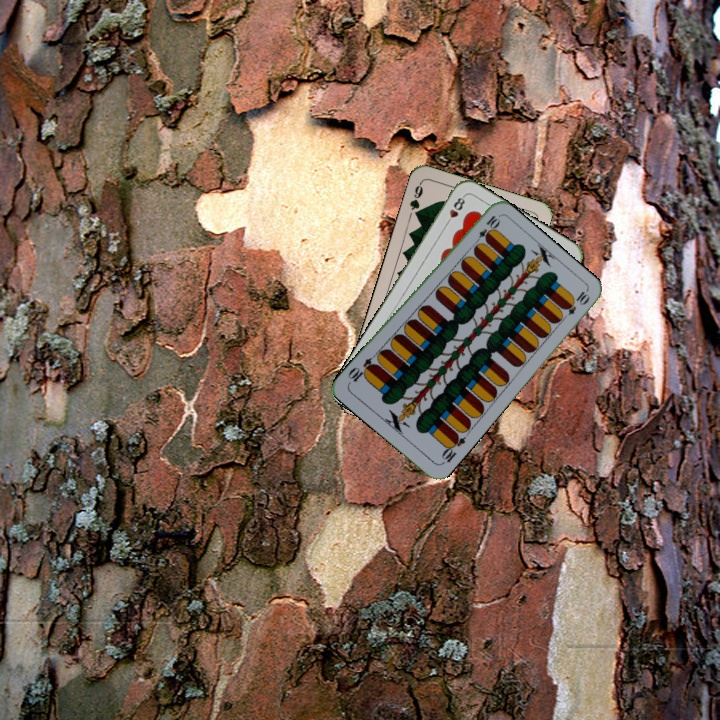E10: (470, 211, 502, 248), (437, 429, 468, 467)
G9: (405, 179, 426, 220)
H8: (441, 192, 468, 229)
